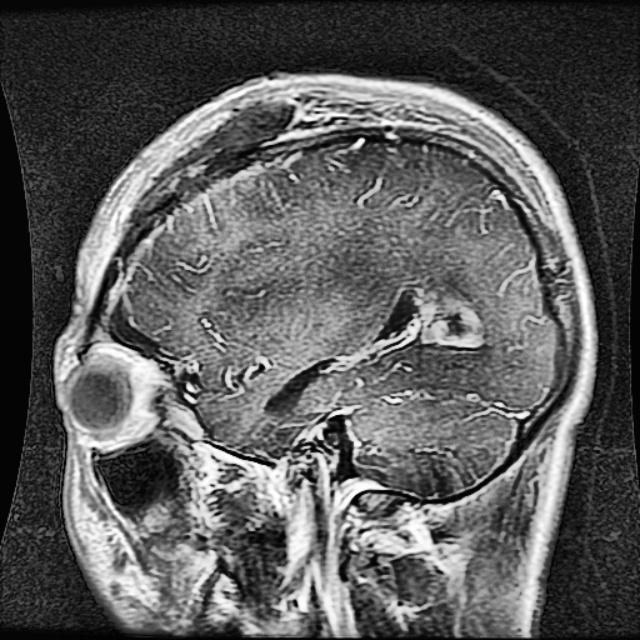Meningioma: (258, 283, 485, 419)
